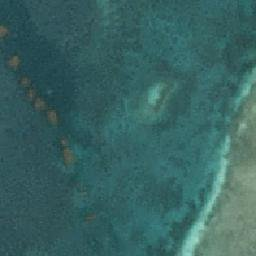debris: (37, 98, 58, 124), (58, 138, 74, 163), (20, 77, 35, 100), (6, 53, 23, 72), (1, 26, 8, 42)
